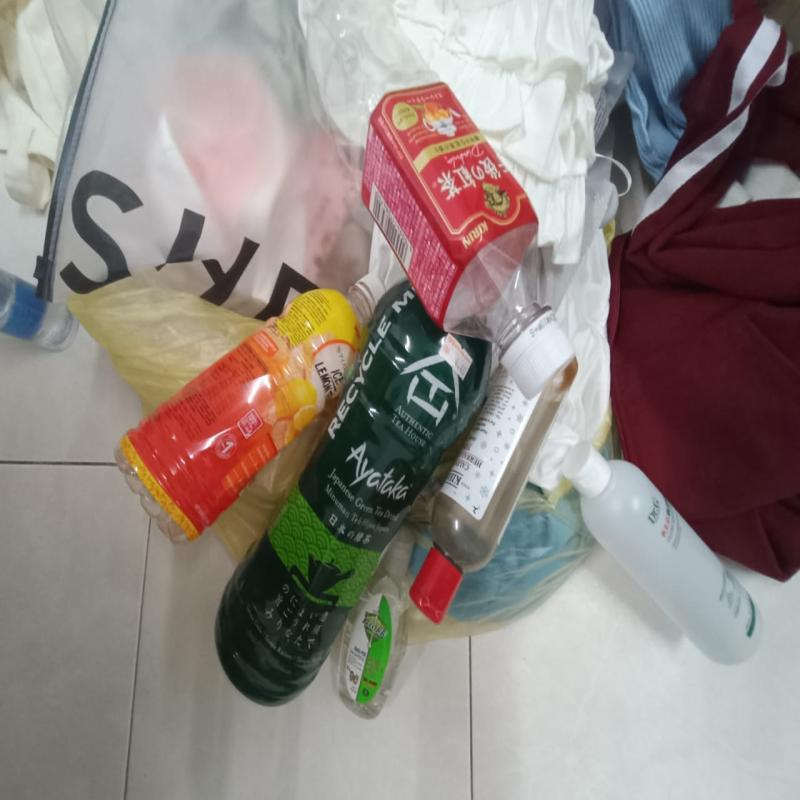botella: (212, 280, 496, 709), (279, 0, 575, 386), (118, 271, 393, 539)
